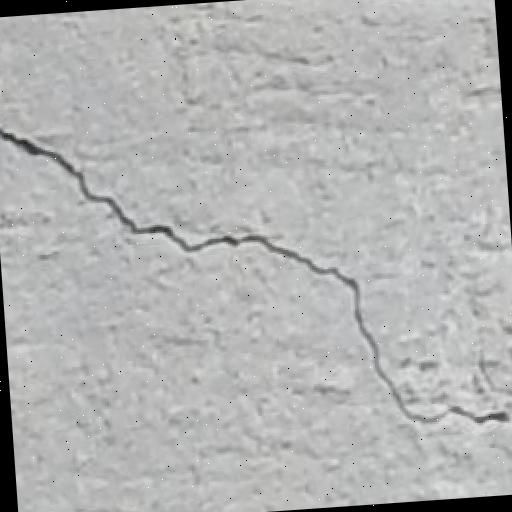spalling: (0, 77, 512, 436)
